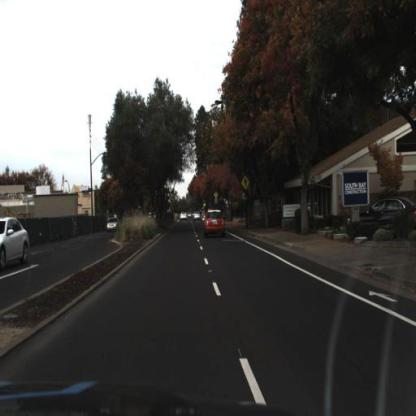car: (347, 195, 416, 235), (1, 219, 31, 272), (204, 207, 228, 240), (106, 215, 120, 233)
